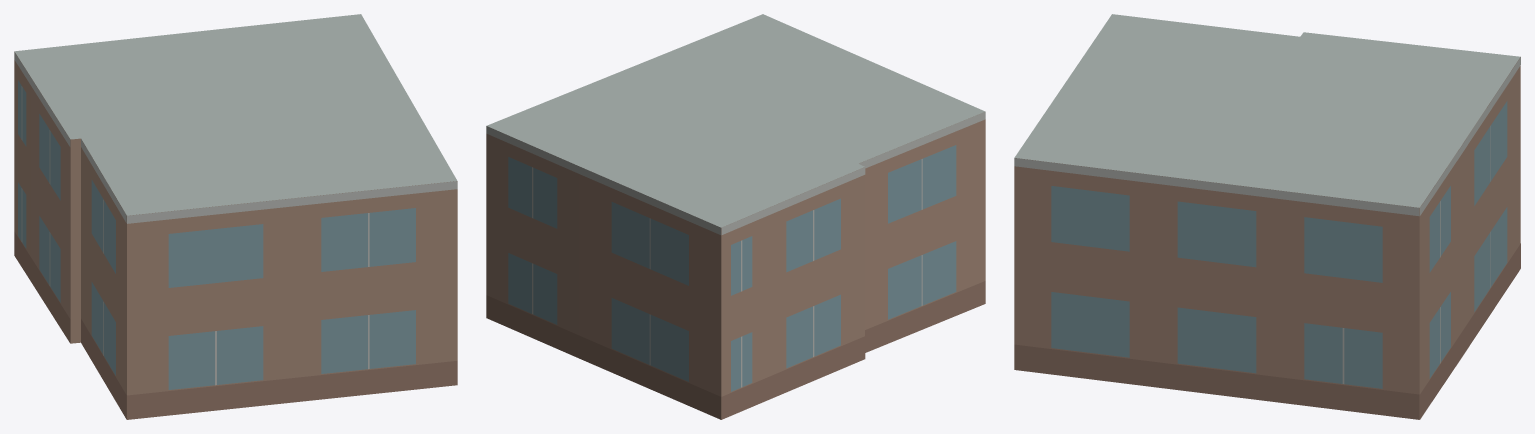
File: survey-upis-32485005.glb
3 views of the same model, side by side, from view 1: azimuth 30°, elevation 25°; view 2: azimuth 150°, elevation 25°; view 3: azimuth 270°, elevation 25° (orthographic). The views are drawn at different scales.
Parts seen in each view (by area): view 1: survey-upis-32485005.tmp; view 2: survey-upis-32485005.tmp; view 3: survey-upis-32485005.tmp.
Boxes of the visible parts, box(x1,y1,x2,y2) form: survey-upis-32485005.tmp: box(14, 14, 457, 419); survey-upis-32485005.tmp: box(486, 14, 985, 419); survey-upis-32485005.tmp: box(1014, 14, 1520, 419).
Size of the model in its own units: 11.97 by 6.1 by 13.21.
